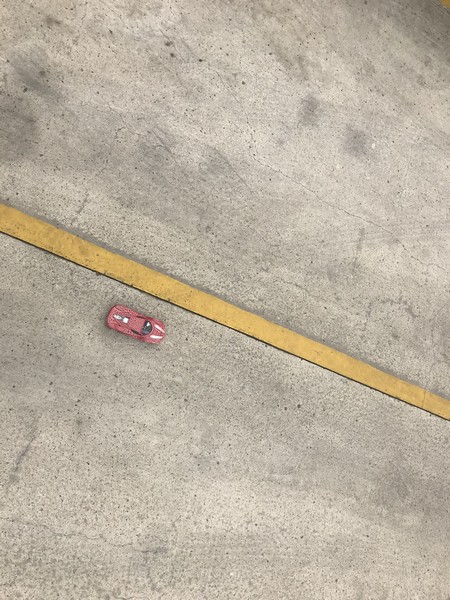RC: (104, 304, 168, 349)
